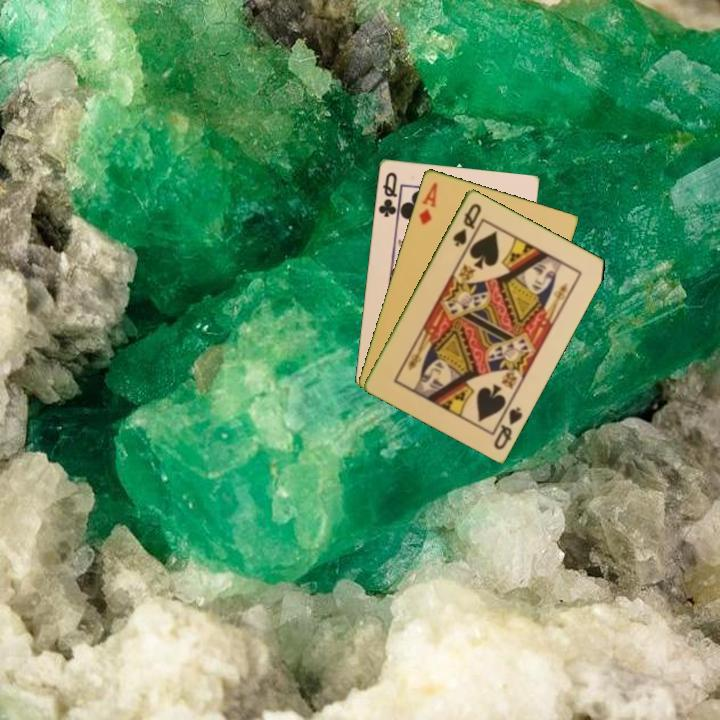Ad: (415, 178, 440, 227)
Qc: (374, 168, 400, 220)
Qs: (449, 199, 484, 249), (490, 403, 525, 452)
